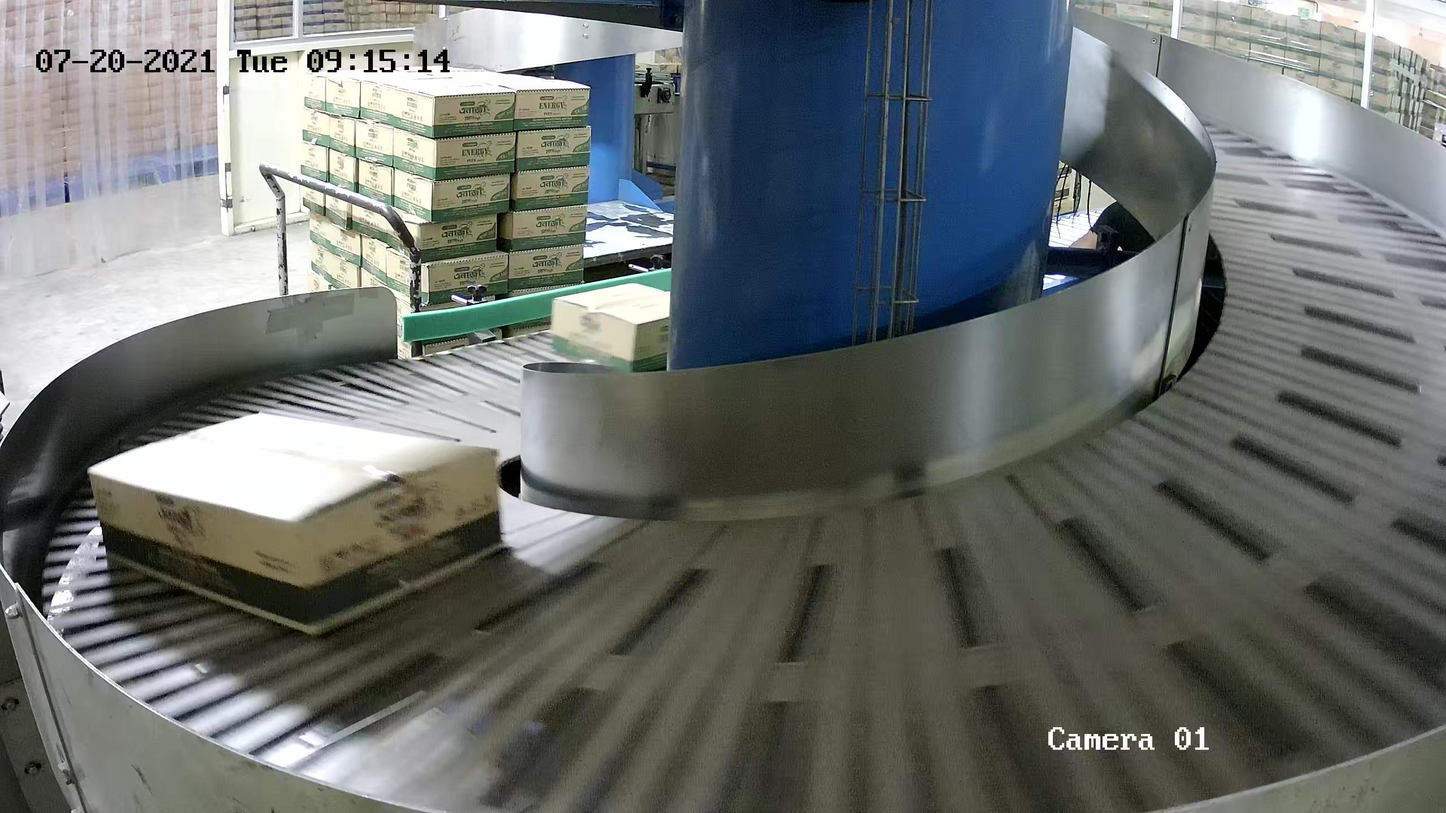Box: (87, 410, 508, 639), (550, 282, 671, 373)
